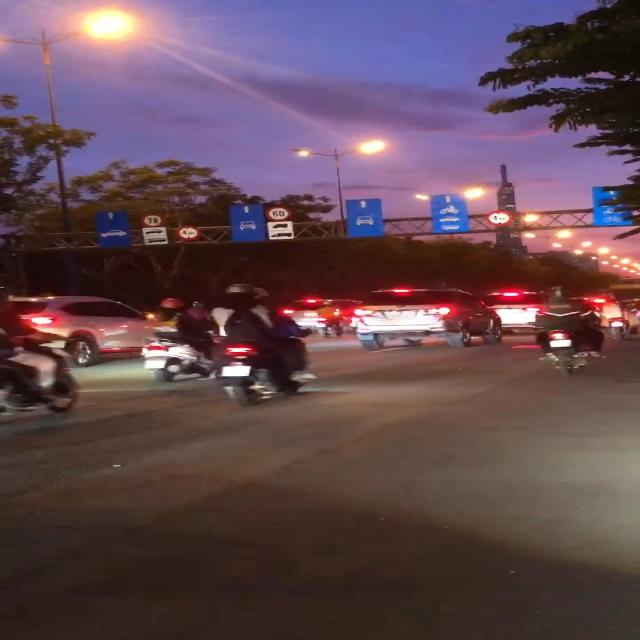Bien bao toc do toi da cho phep: (265, 204, 290, 222), (137, 213, 163, 229)
